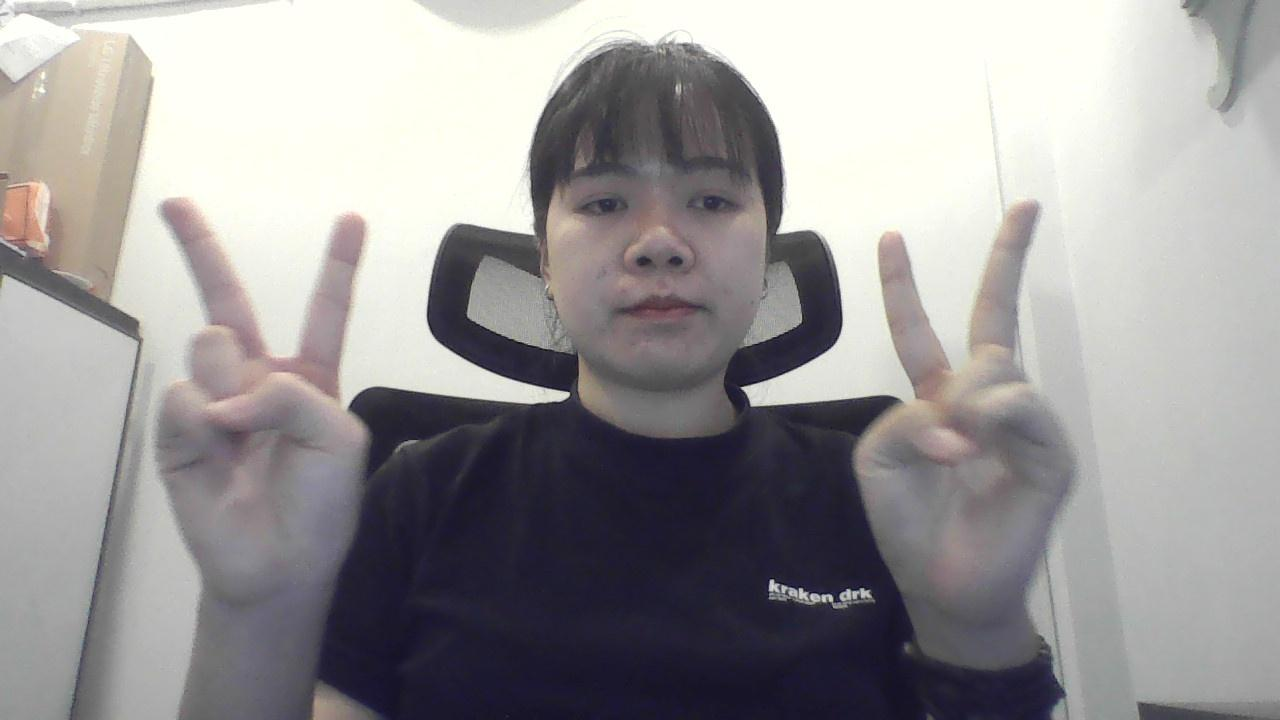V: (841, 189, 1082, 632), (152, 174, 391, 616)
